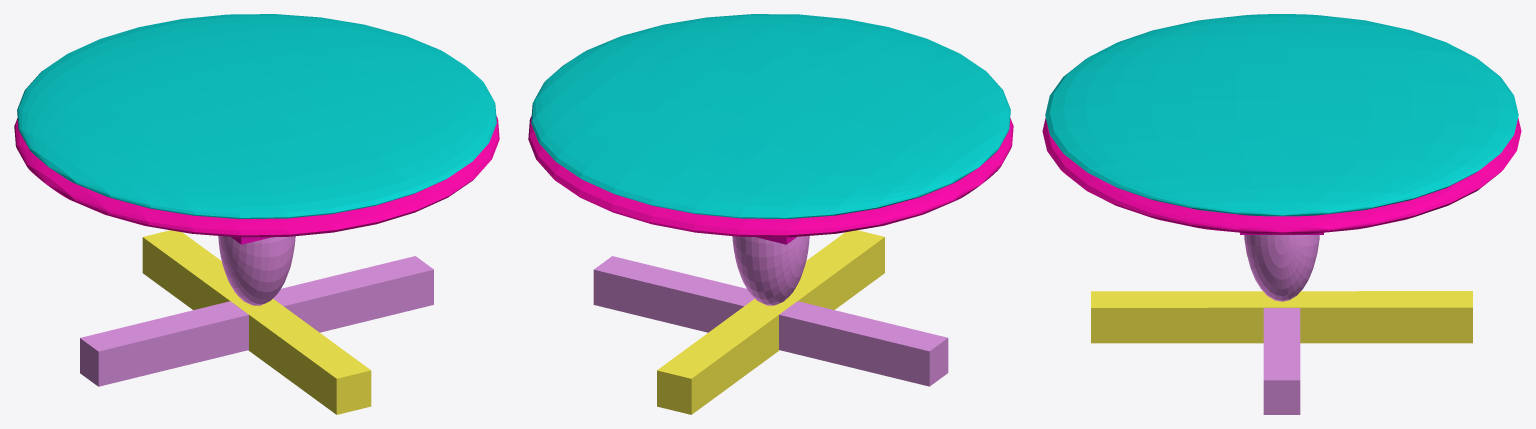
The model's file is 04379243_table_326.glb.
3 renders of one model, left to right at view 1: azimuth 30°, elevation 25°; view 2: azimuth 150°, elevation 25°; view 3: azimuth 270°, elevation 25°, orthographic.
Visible parts, largest first — view 1: Plane; view 2: Plane; view 3: Plane.
Part boxes in pixels (x1,y1,x2,y2): Plane: (14,14,499,414); Plane: (528,14,1013,414); Plane: (1042,14,1521,414).
Size of the model in its own units: 1.41 by 0.765 by 1.41.
